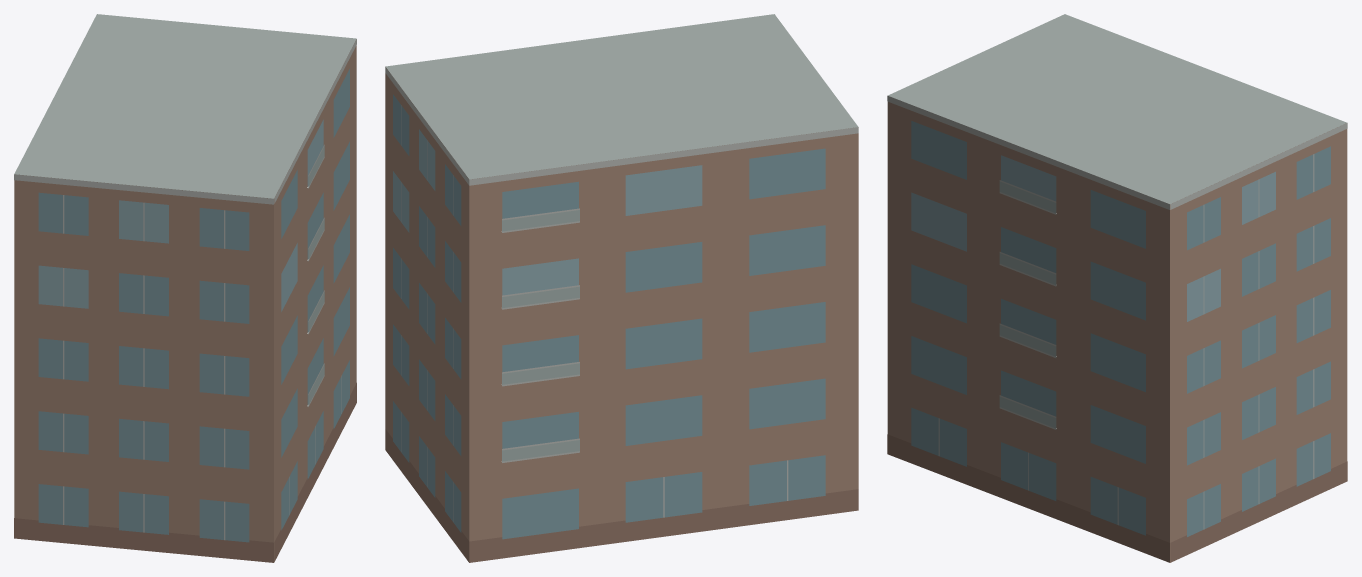
The model's file is survey-upis-32985312.glb.
3 renders of one model, left to right at view 1: azimuth 30°, elevation 25°; view 2: azimuth 150°, elevation 25°; view 3: azimuth 270°, elevation 25°, orthographic. The views are drawn at different scales.
Visible parts, largest first — view 1: survey-upis-32985312.tmp; view 2: survey-upis-32985312.tmp; view 3: survey-upis-32985312.tmp.
Part boxes in pixels (x1,y1,x2,y2): survey-upis-32985312.tmp: (14, 14, 356, 562); survey-upis-32985312.tmp: (385, 14, 858, 562); survey-upis-32985312.tmp: (887, 14, 1347, 562).
Bounding box in the file's own units: 16.97 × 14.9 × 17.33.
